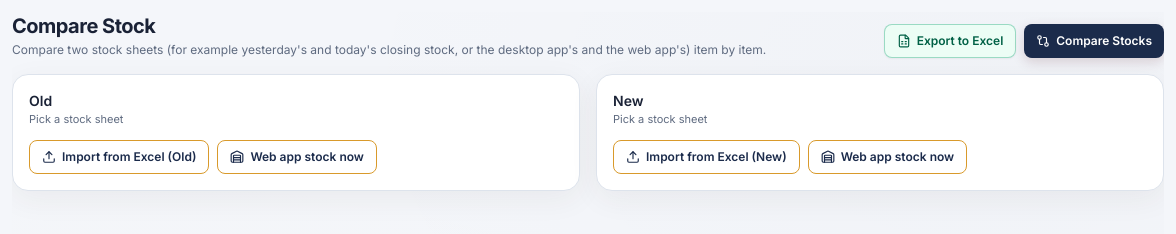
Test case: CompareStock › asks for both sheets inline
Click the button "Compare Stocks". click: (1094, 41)
box: [1024,24,1164,58]
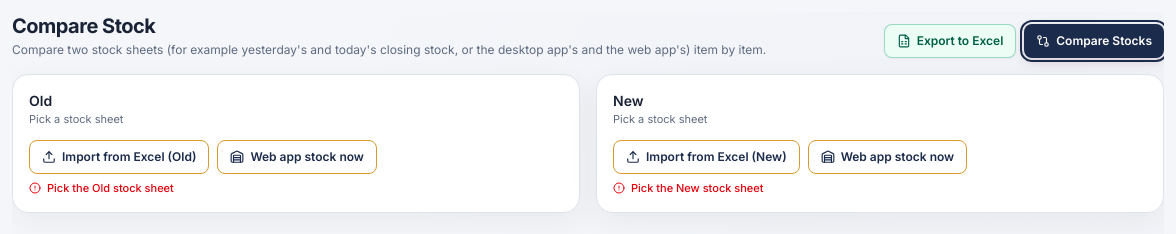
Result: the text "Pick the Old stock sheet" is shown at [47,180,174,196]
Result: the text "Pick the New stock sheet" is shown at [631,180,764,196]
